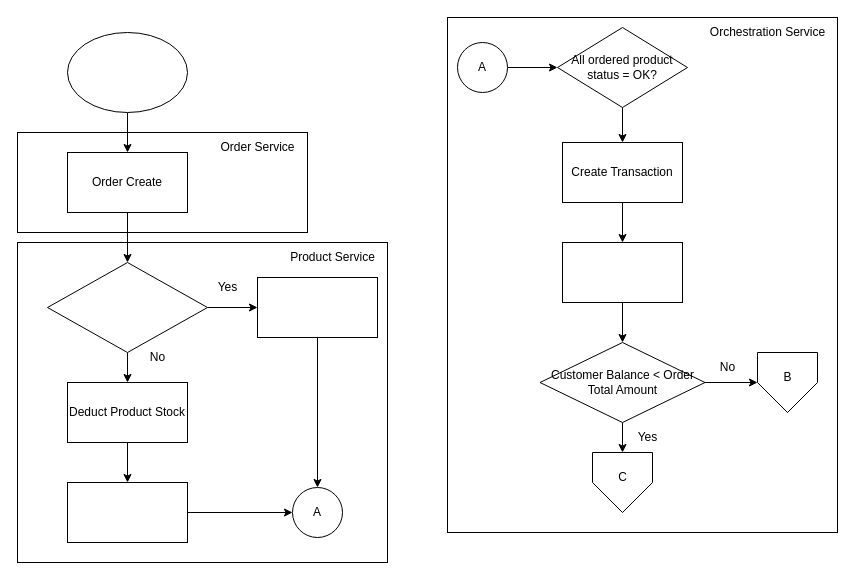
Some shapes in this 855 by 580 pixel diagram are drawn without their labels. The shapes that lost their labels are listed below. From the top down, each one's centre as x and y in pixels, then its label:
(127,72): Start
(622,272): Set Transacton status to Pending
(127,307): Ordered Item Qty > Product Stock
(317,307): Set ordered product status = Out of Stock
(127,512): Set ordered product status = OK
